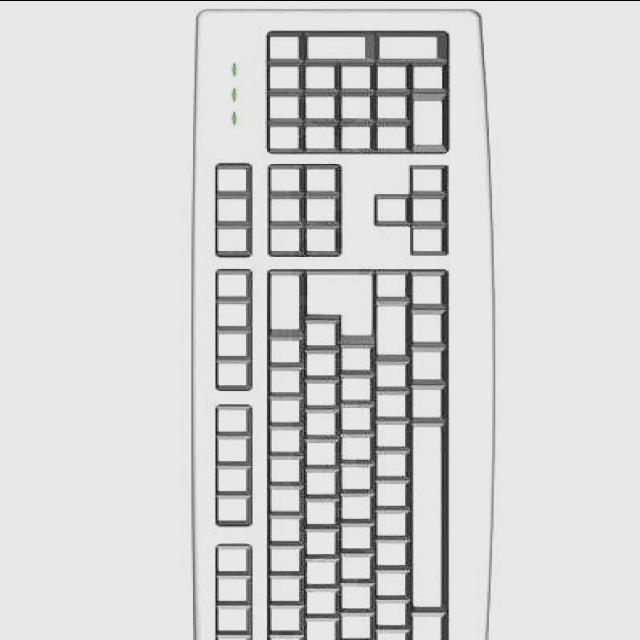keyboard: (184, 4, 498, 640)
